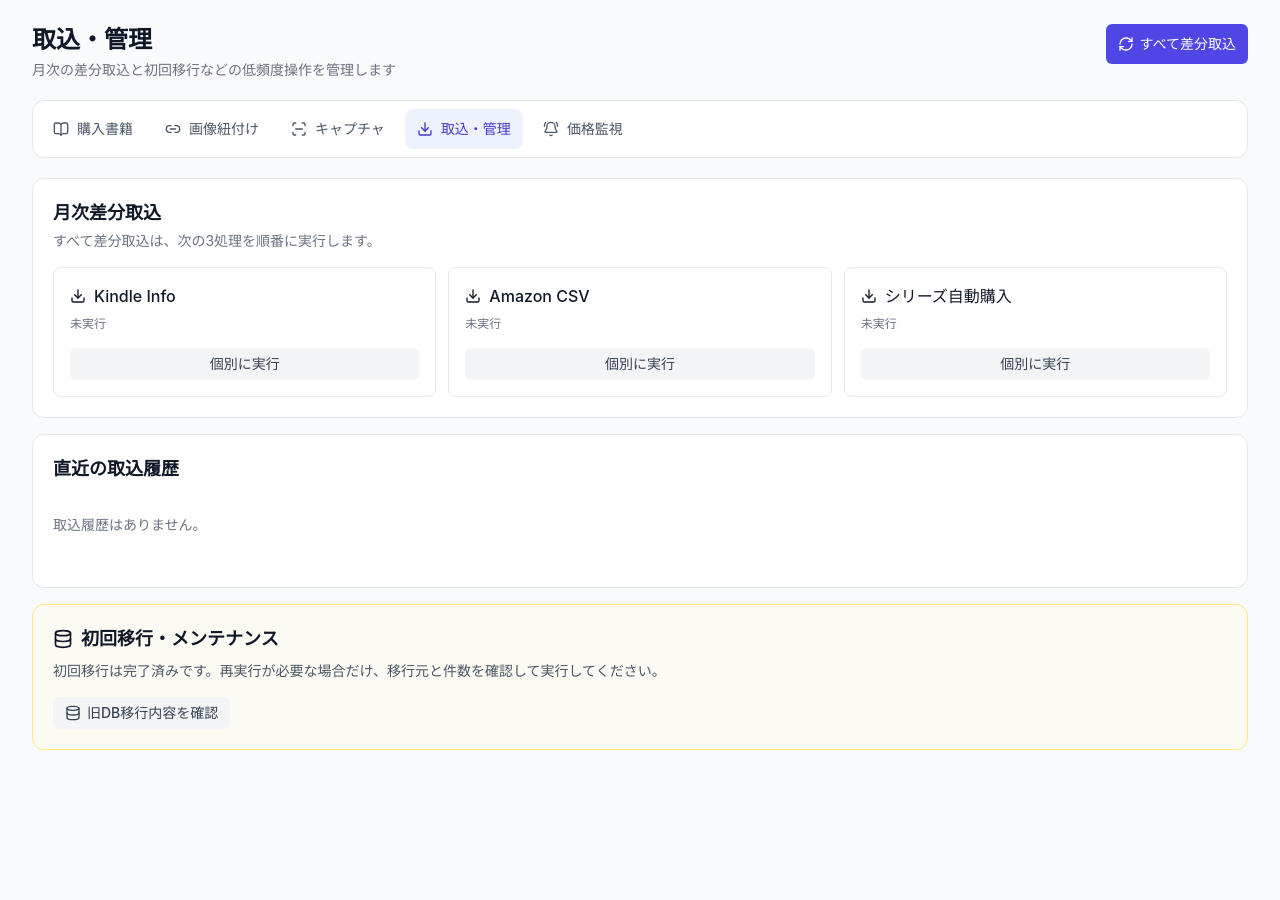
Scenario: Kindle catalog pages › すべて差分取込で3処理を順に実行する
The width and height of the screenshot is (1280, 900).
Click the button "すべて差分取込": (1177, 44) [1106, 24, 1248, 64]
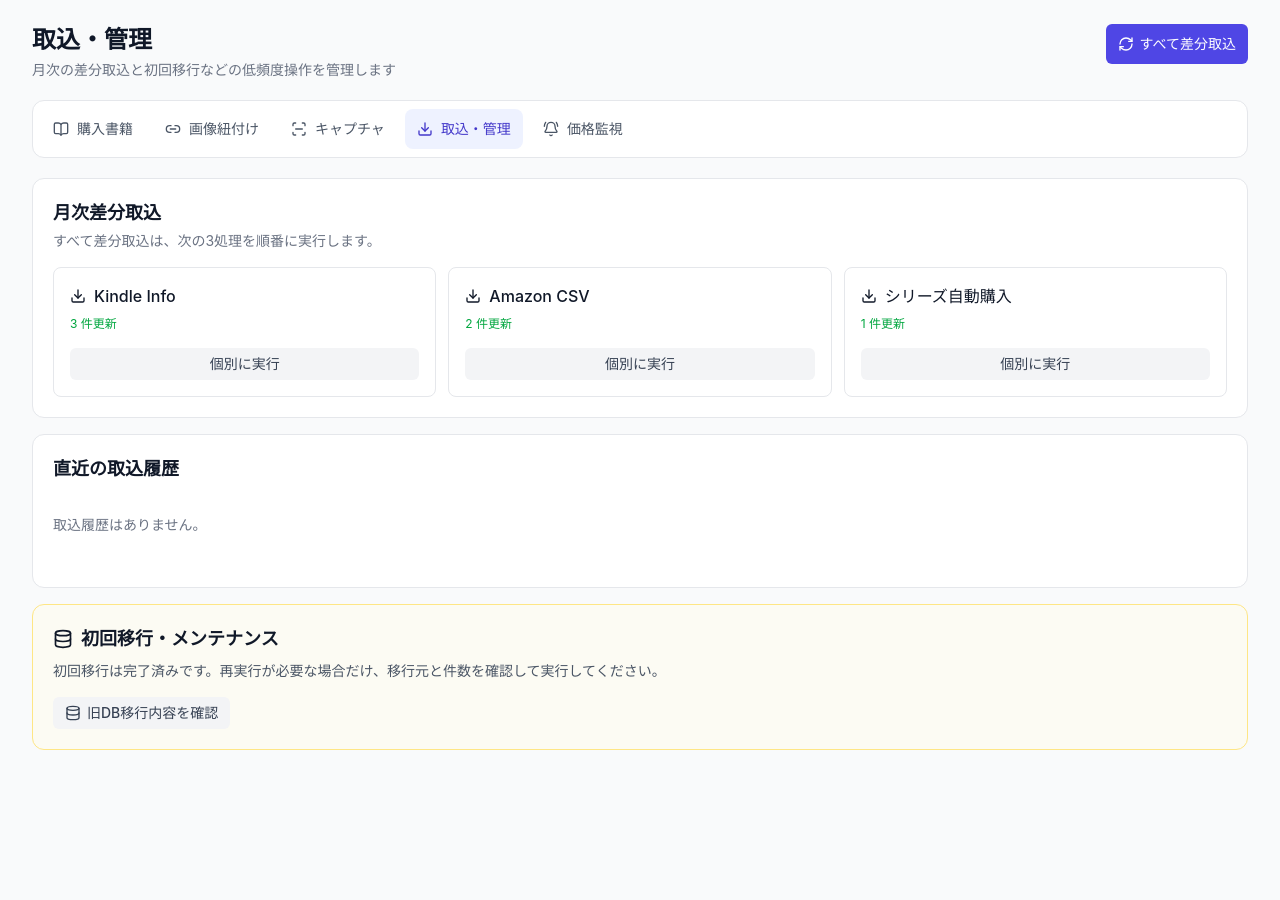
Check: the text "3 件更新" is shown, box [70, 316, 117, 331]
Check: the text "2 件更新" is shown, box [465, 316, 512, 331]
Check: the text "1 件更新" is shown, box [861, 316, 905, 331]
